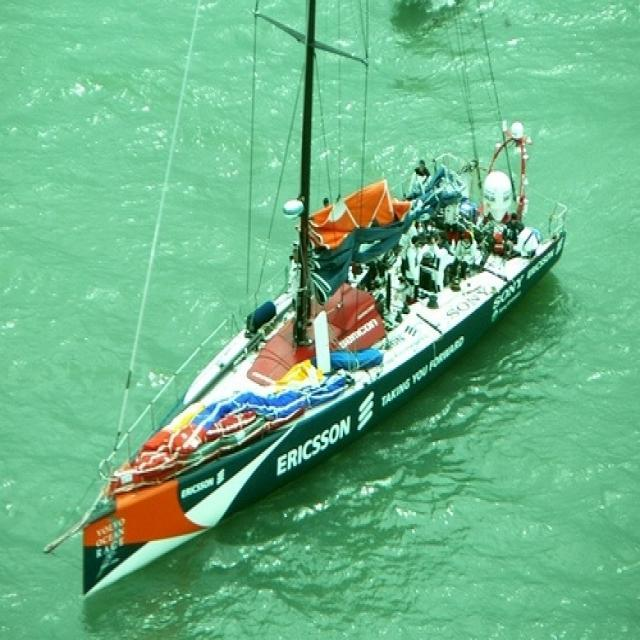Ship: (56, 1, 608, 606)
